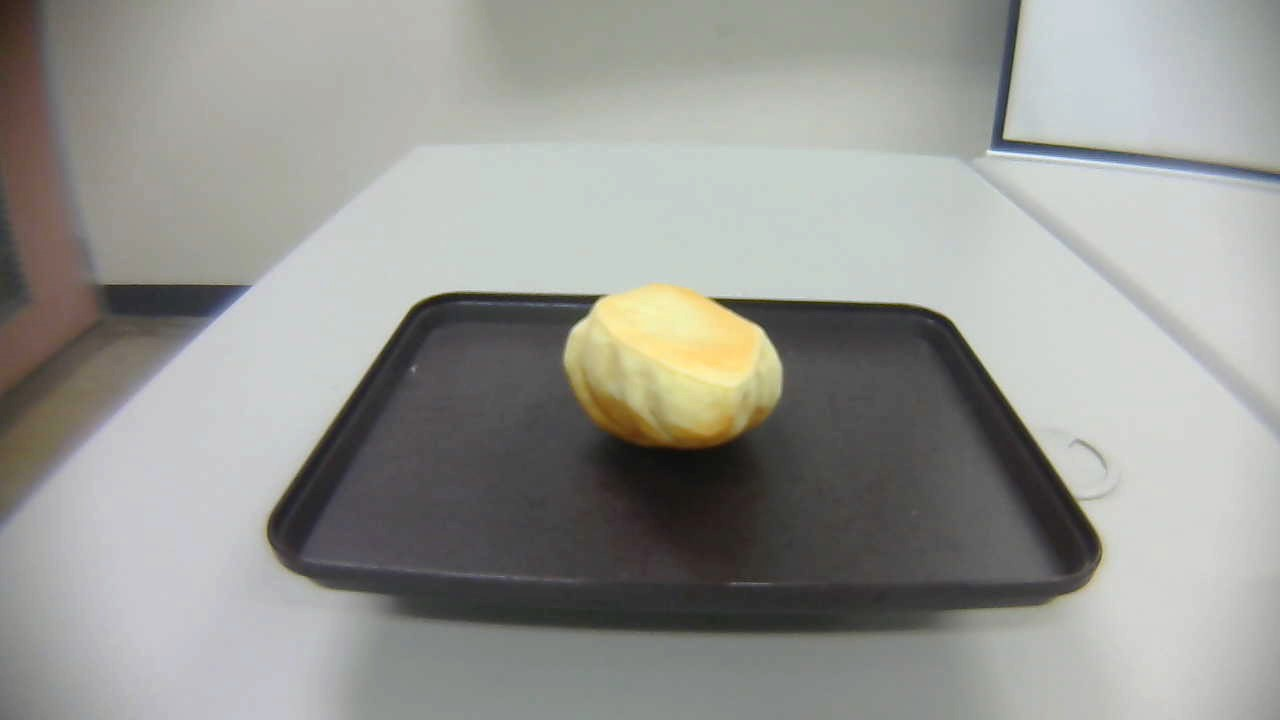croissant: (563, 283, 782, 450)
